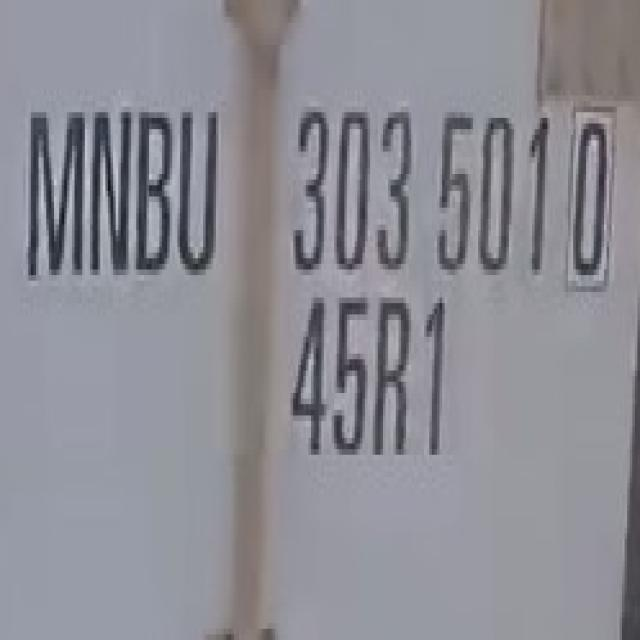dv: (558, 85, 629, 292)
owner: (11, 96, 227, 302)
serial: (276, 85, 556, 288)
size: (280, 289, 466, 481)
